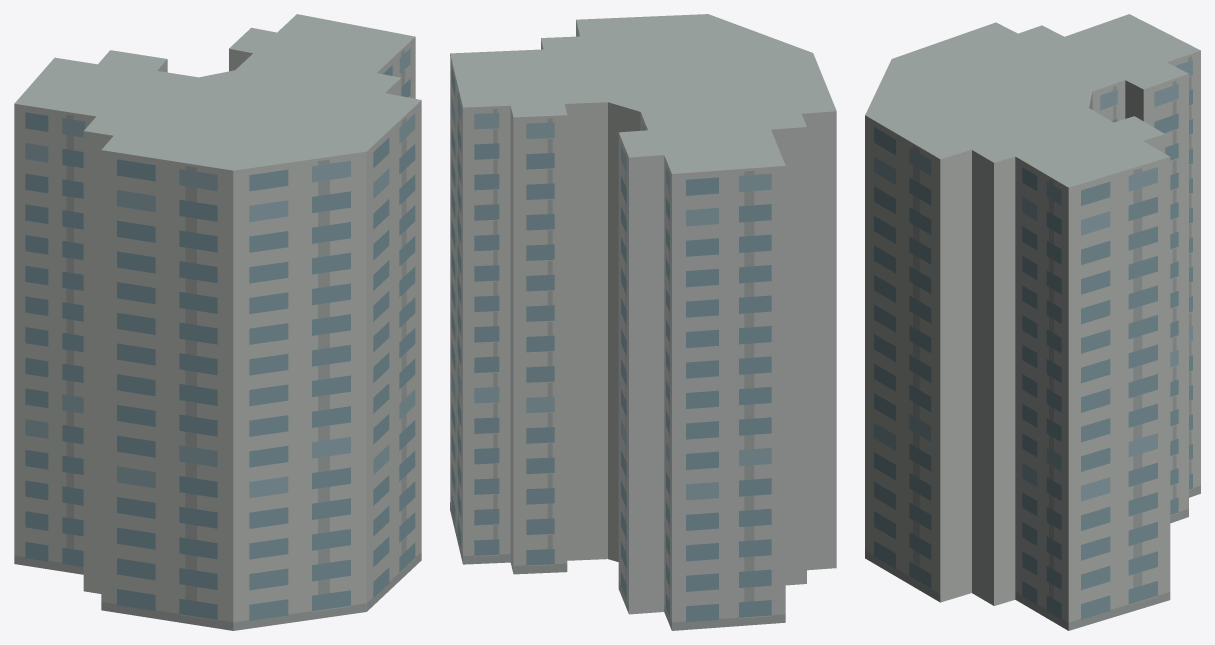
Rendered from residential-2e79cb05-a8f0-41f9-9a2f-a6751a48fc4c.glb.
3 views of the same model, side by side, from view 1: azimuth 30°, elevation 25°; view 2: azimuth 150°, elevation 25°; view 3: azimuth 270°, elevation 25° (orthographic). The views are drawn at different scales.
Visible parts, largest first — view 1: residential-2e79cb05-a8f0-41f9-9a2f-a6751a48fc4c.tmp; view 2: residential-2e79cb05-a8f0-41f9-9a2f-a6751a48fc4c.tmp; view 3: residential-2e79cb05-a8f0-41f9-9a2f-a6751a48fc4c.tmp.
Part boxes in pixels (bbox=[...]): residential-2e79cb05-a8f0-41f9-9a2f-a6751a48fc4c.tmp: bbox=[14, 14, 421, 630]; residential-2e79cb05-a8f0-41f9-9a2f-a6751a48fc4c.tmp: bbox=[450, 14, 836, 630]; residential-2e79cb05-a8f0-41f9-9a2f-a6751a48fc4c.tmp: bbox=[865, 14, 1200, 630].
Size of the model in its own units: 36.15 by 43 by 29.53.
